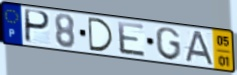8: (53, 13, 77, 50)
A: (183, 30, 216, 67)
D: (86, 16, 115, 53)
E: (116, 20, 148, 59)
G: (154, 26, 183, 62)
P: (24, 8, 52, 45)
